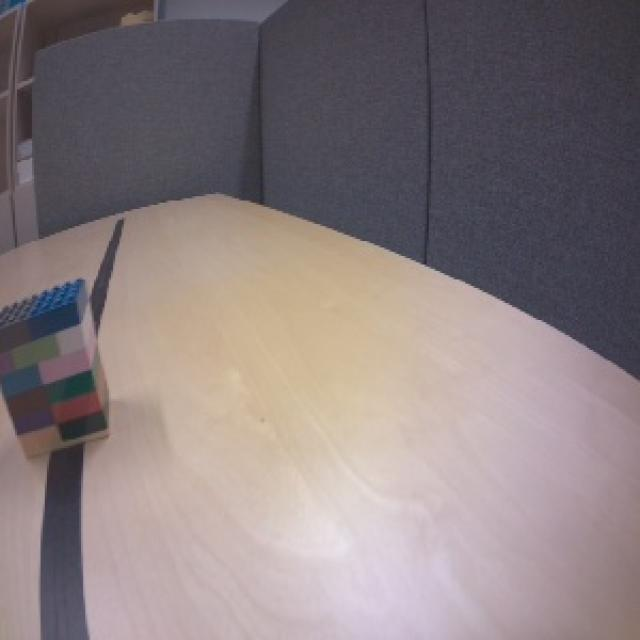obstacle: (1, 274, 114, 462)
